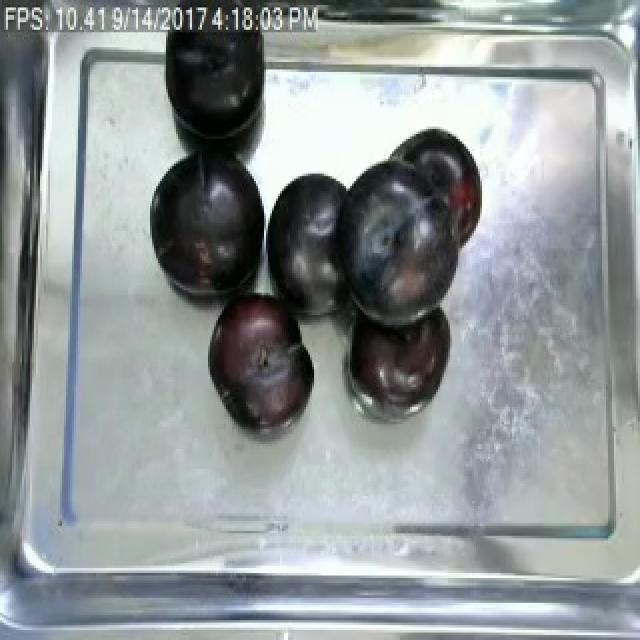Fruit: (142, 129, 270, 303), (198, 280, 326, 442), (336, 300, 460, 417)
